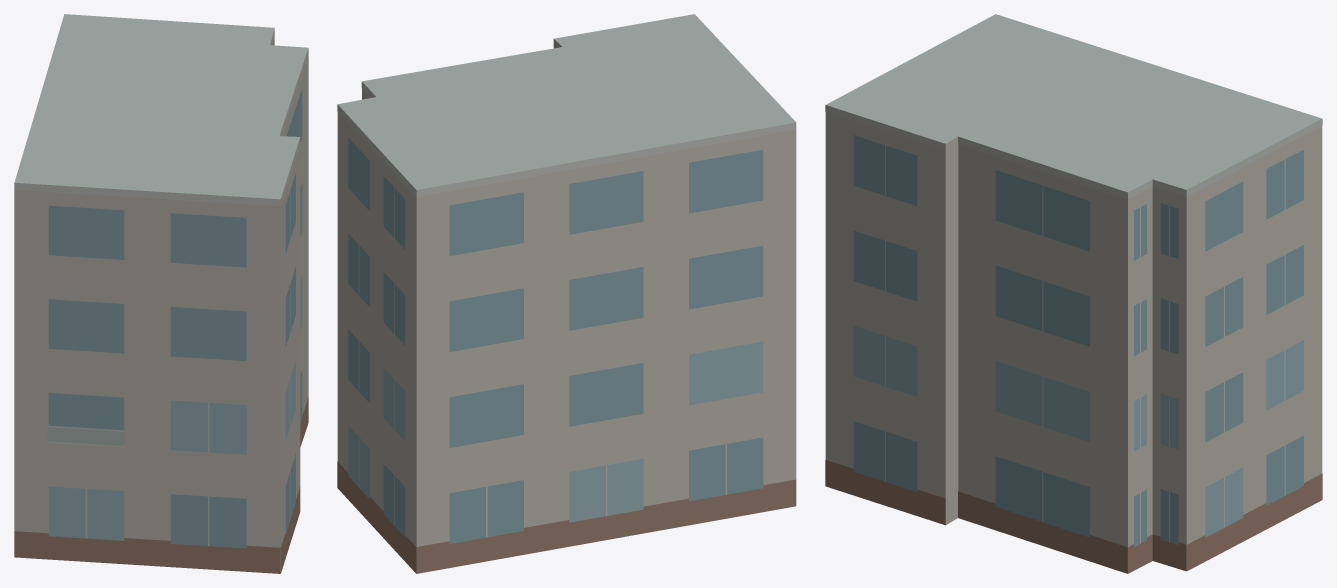
File: survey-upis-32854914.glb
The picture shows the model from 3 angles, left to right: view 1: azimuth 30°, elevation 25°; view 2: azimuth 150°, elevation 25°; view 3: azimuth 270°, elevation 25°; orthographic projection. The views are drawn at different scales.
Parts seen in each view (by area): view 1: survey-upis-32854914.tmp; view 2: survey-upis-32854914.tmp; view 3: survey-upis-32854914.tmp.
Part boxes in pixels (box(x1,y1,x2,y2)): survey-upis-32854914.tmp: box(14, 14, 308, 573); survey-upis-32854914.tmp: box(337, 14, 796, 573); survey-upis-32854914.tmp: box(825, 14, 1322, 573).
Bounding box in the file's own units: 13.15 × 13.1 × 15.47.
